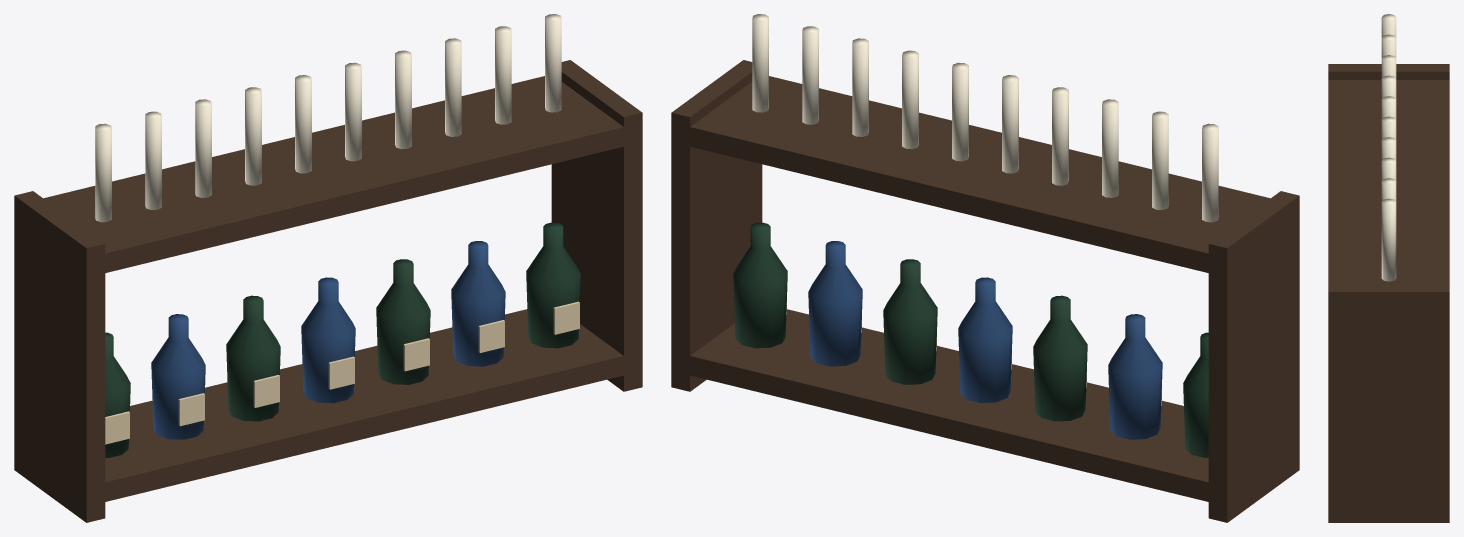
Rendered from oil_shelf.glb.
3 renders of one model, left to right at view 1: azimuth 30°, elevation 25°; view 2: azimuth 150°, elevation 25°; view 3: azimuth 270°, elevation 25°, orthographic. The views are drawn at different scales.
Visible parts, largest first — view 1: oil_shelf; view 2: oil_shelf; view 3: oil_shelf.
Boxes of the visible parts, left/top/right/bottom form: oil_shelf: left=14, top=14, right=642, bottom=522; oil_shelf: left=671, top=14, right=1299, bottom=522; oil_shelf: left=1328, top=14, right=1449, bottom=522.
Size of the model in its own units: 0.89 by 0.545 by 0.2.
